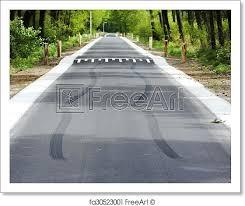Bump: (73, 57, 156, 64)
